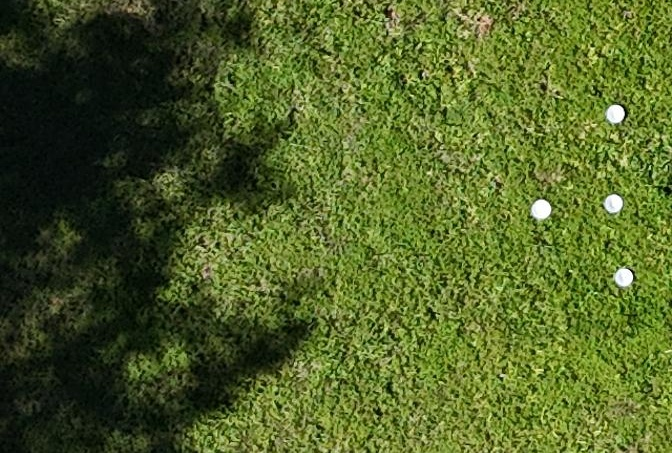bowl: (530, 198, 552, 221), (604, 104, 627, 125), (611, 268, 633, 288), (603, 193, 622, 214)
